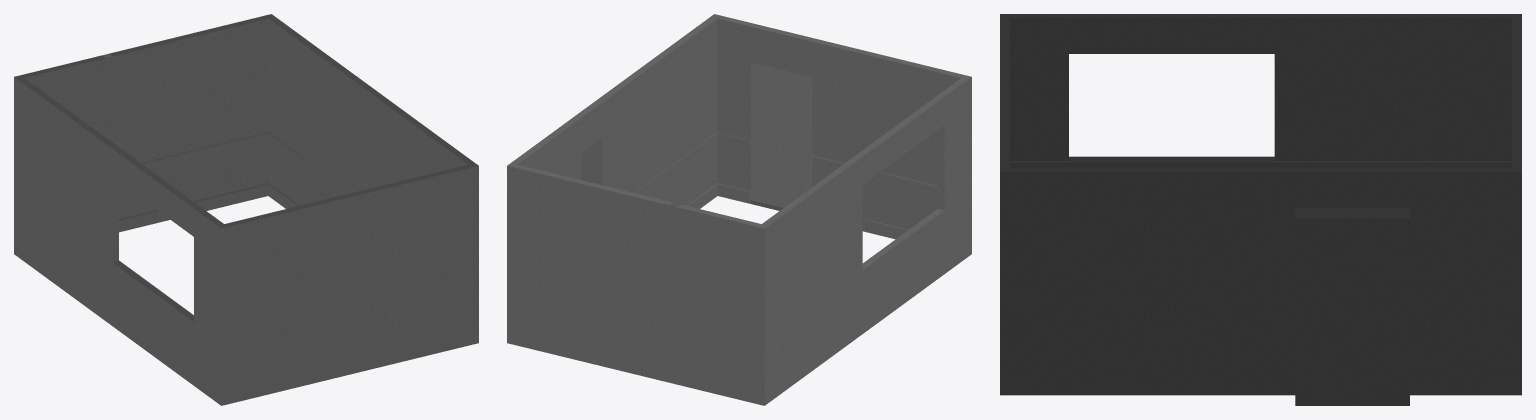
The model's file is StandardWallSize_5f97906e.obj.
The picture shows the model from 3 angles, left to right: view 1: azimuth 30°, elevation 25°; view 2: azimuth 150°, elevation 25°; view 3: azimuth 270°, elevation 25°; orthographic projection. The views are drawn at different scales.
Visible parts, largest first — view 1: StandardWallSize_5f97906e; view 2: StandardWallSize_5f97906e; view 3: StandardWallSize_5f97906e.
Boxes of the visible parts, bbox=[...] form: StandardWallSize_5f97906e: bbox=[14, 14, 478, 405]; StandardWallSize_5f97906e: bbox=[507, 14, 971, 405]; StandardWallSize_5f97906e: bbox=[1000, 14, 1521, 405].
Bounding box in the file's own units: 4.06 × 2.5 × 5.3.
